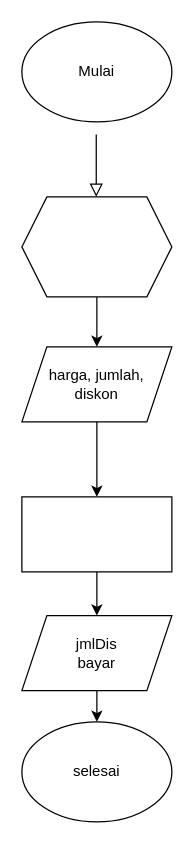
Some shapes in this 194 by 844 pixel diagram are drawn without their labels. Here are the shapes that lost their labels. From the top down, the box of each, then its label:
(21, 196, 172, 297): int harga, jumlah, halBuku double Dis, total, bayar, jmlDis String merkBuku
(21, 496, 172, 572): Total= harga*jumlah jmlDis=total*dis bayar=total-jmlDis
